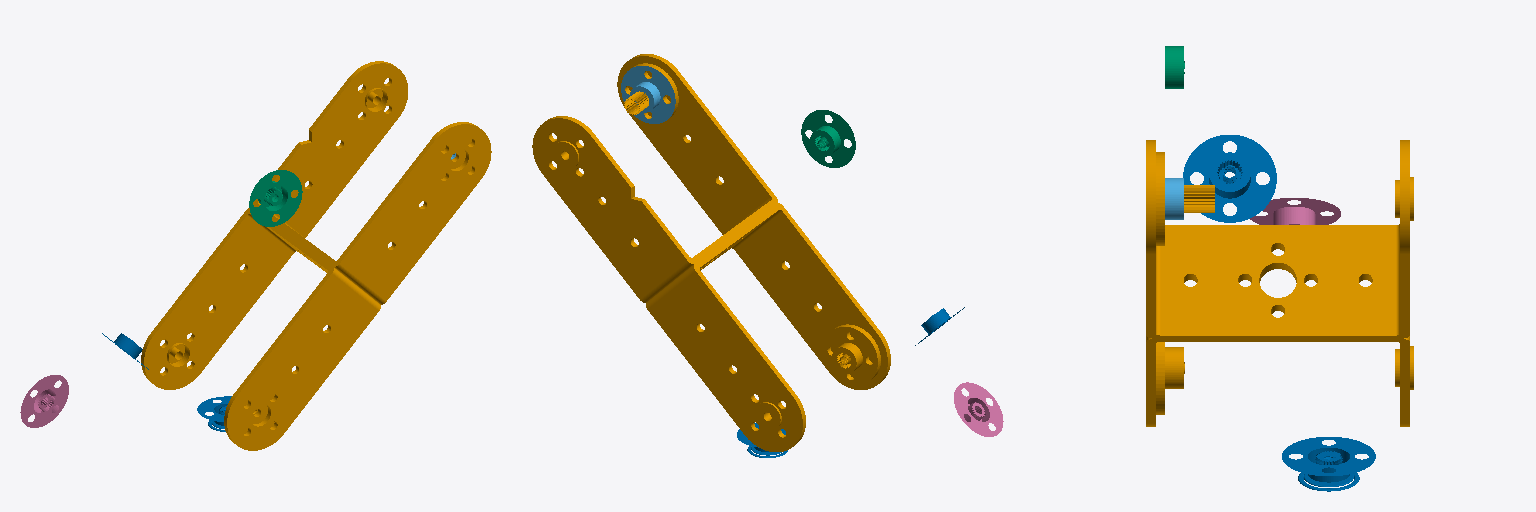
The robot description file, URDF, robot "robo_arm":
<?xml version="1.0" ?>
<!-- created with Phobos 1.0.1 "Capricious Choutengan" -->
<robot name="robo_arm">
    <link name="Arm">
        
<inertial>
            <origin xyz="0 0 0" rpy="0 0 0" />
            <mass value="0.1" />
            <inertia ixx="0.002" ixy="0.0" ixz="0.0" iyy="0.02" iyz="0.0" izz="0.002"/>
        </inertial>

        <visual name="Robo_Arm_mesh">
            <origin xyz="0 0 0" rpy="0 0.7854 0" />
            <geometry>
                <mesh filename="package://arm_desc/meshes/dae/6-DOF Robot Mechanical Arm Kits v19 (1).005.dae" scale="1.0 1.0 1.0" />
            </geometry>
        </visual>
        <collision name="Robo_Arm_mesh">
            <origin xyz="-0.01794 0.03784 -0.03618" rpy="0 1.5708 0" />
            <geometry>
                <box size="0.54395 1.2334 2.85496" />
            </geometry>
        </collision>
    </link>
    <link name="arm_1_motor">
        
<inertial>
            <origin xyz="0 0 0" rpy="0 0 0" />
            <mass value="0.1" />
            <inertia ixx="0.00044" ixy="0" ixz="0" iyy="0.00074" iyz="0" izz="0.00044" />
        </inertial>

        <visual name="Motor_3">
            <origin xyz="0 0 0" rpy="1.5708 0 0" />
            <geometry>
                <mesh filename="package://arm_desc/meshes/dae/6-DOF Robot Mechanical Arm Kits v19 (1).003.dae" scale="1.0 1.0 1.0" />
            </geometry>
        </visual>
        <collision name="Motor_3">
            <origin xyz="0 -6e-05 0.01712" rpy="3.14159 0 0" />
            <geometry>
                <cylinder radius="0.21715" length="0.16644" />
            </geometry>
        </collision>
    </link>
    <link name="arm_2_motor">
        
<inertial>
            <origin xyz="0 0 0" rpy="0 0 0" />
            <mass value="0.1" />
            <inertia ixx="0.00044" ixy="0" ixz="0" iyy="0.00074" iyz="0" izz="0.00044" />
        </inertial>

        <visual name="Motor_4">
            <origin xyz="0 0 0" rpy="1.5708 0 0" />
            <geometry>
                <mesh filename="package://arm_desc/meshes/dae/6-DOF Robot Mechanical Arm Kits v19 (1).004.dae" scale="1.0 1.0 1.0" />
            </geometry>
        </visual>
        <collision name="Motor_4">
            <origin xyz="0 -6e-05 0.01712" rpy="3.14159 0 0" />
            <geometry>
                <cylinder radius="0.21715" length="0.16653" />
            </geometry>
        </collision>
    </link>
    <link name="back">
        
<inertial>
            <origin xyz="0 0 0" rpy="0 0 0" />
            <mass value="0.1" />
            <inertia ixx="0.002" ixy="0.0" ixz="0.0" iyy="0.02" iyz="0.0" izz="0.002"/>
        </inertial>

        <visual name="Back">
            <origin xyz="0 0 0" rpy="0 0 0" />
            <geometry>
                <mesh filename="package://arm_desc/meshes/dae/6-DOF Robot Mechanical Arm Kits v19 (1).006.dae" scale="1.0 1.0 1.0" />
            </geometry>
        </visual>
        <collision name="Back">
            <origin xyz="0.03169 0.01865 -0.01747" rpy="0 0 0" />
            <geometry>
                <box size="2.69593 1.12917 0.62973" />
            </geometry>
        </collision>
    </link>
    <link name="base_plat_motor">
        
<inertial>
            <origin xyz="0 0 0" rpy="0 0 0" />
            <mass value="0.1" />
            <inertia ixx="0.00051" ixy="0" ixz="0" iyy="0.00051" iyz="0" izz="0.00082" />
        </inertial>

        <visual name="Motor_1">
            <origin xyz="0 0 0" rpy="0 0 0" />
            <geometry>
                <mesh filename="package://arm_desc/meshes/dae/6-DOF Robot Mechanical Arm Kits v19 (1).001.dae" scale="1.0 1.0 1.0" />
            </geometry>
        </visual>
        <collision name="Motor_1">
            <origin xyz="0 -7e-05 -0.0165" rpy="0 0 0" />
            <geometry>
                <cylinder radius="0.21715" length="0.13589" />
            </geometry>
        </collision>
    </link>
    <link name="gripper">
        
<inertial>
            <origin xyz="0 0 0" rpy="0 0 0" />
            <mass value="0.1" />
            <inertia ixx="0.002" ixy="0.0" ixz="0.0" iyy="0.02" iyz="0.0" izz="0.002"/>
        </inertial>

        <visual name="Gripper">
            <origin xyz="0 0 0" rpy="0 0.7854 0" />
            <geometry>
                <mesh filename="package://arm_desc/meshes/dae/6-DOF Robot Mechanical Arm Kits v19 (1).009.dae" scale="1.0 1.0 1.0" />
            </geometry>
        </visual>
        <collision name="Gripper.000">
            <origin xyz="0 0 0" rpy="0 0.7854 0" />
            <geometry>
                <mesh filename="package://arm_desc/meshes/dae/6-DOF Robot Mechanical Arm Kits v19 (1).010.dae" scale="1.0 1.0 1.0" />
            </geometry>
        </collision>
    </link>
    <link name="gripper_motor">
        
<inertial>
            <origin xyz="0 0 0" rpy="0 0 0" />
            <mass value="0.1" />
            <inertia ixx="0.00062" ixy="0" ixz="0" iyy="0.00046" iyz="-0.00016" izz="0.00062" />
        </inertial>

        <visual name="Motor_6">
            <origin xyz="0 0 0" rpy="0 0.7854 0" />
            <geometry>
                <mesh filename="package://arm_desc/meshes/dae/6-DOF Robot Mechanical Arm Kits v19 (1).007.dae" scale="1.0 1.0 1.0" />
            </geometry>
        </visual>
        <collision name="Motor_6">
            <origin xyz="-6e-05 0 0.02681" rpy="0 0 0" />
            <geometry>
                <cylinder radius="0.15355" length="0.20245" />
            </geometry>
        </collision>
    </link>
    <link name="hand">
        
<inertial>
            <origin xyz="0 0 0" rpy="0 0 0" />
            <mass value="0.1" />
            <inertia ixx="0.002" ixy="0.0" ixz="0.0" iyy="0.02" iyz="0.0" izz="0.002"/>
        </inertial>

        <visual name="Hand">
            <origin xyz="0 0 0" rpy="0 0.7854 0" />
            <geometry>
                <mesh filename="package://arm_desc/meshes/dae/6-DOF Robot Mechanical Arm Kits v19 (1).012.dae" scale="1.0 1.0 1.0" />
            </geometry>
        </visual>
        <collision name="Hand">
            <origin xyz="0.25343 0.02847 -0.00192" rpy="0 0 0" />
            <geometry>
                <box size="1.63209 1.2334 0.52921" />
            </geometry>
        </collision>
    </link>
    <link name="plat_arm_motor">
        
<inertial>
            <origin xyz="0 0 0" rpy="0 0 0" />
            <mass value="0.1" />
            <inertia ixx="0.00044" ixy="0" ixz="0" iyy="0.00044" iyz="0" izz="0.00074" />
        </inertial>

        <visual name="Motor_2">
            <origin xyz="0 0 0" rpy="1.5708 0 0" />
            <geometry>
                <mesh filename="package://arm_desc/meshes/dae/6-DOF Robot Mechanical Arm Kits v19 (1).002.dae" scale="1.0 1.0 1.0" />
            </geometry>
        </visual>
        <collision name="Motor_2">
            <origin xyz="2e-05 -6e-05 0.01771" rpy="3.14159 0 0" />
            <geometry>
                <cylinder radius="0.21715" length="0.15802" />
            </geometry>
        </collision>
    </link>
    <link name="platform">
        
<inertial>
            <origin xyz="0 0 0" rpy="0 0 0" />
            <mass value="0.1" />
            <inertia ixx="0.00805" ixy="2e-05" ixz="-0.00024" iyy="0.00832" iyz="0.00011" izz="0.01272" />
        </inertial>

        <visual name="Platform">
            <origin xyz="0 0 0" rpy="0 0 0" />
            <geometry>
                <mesh filename="package://arm_desc/meshes/dae/6-DOF Robot Mechanical Arm Kits v19 (1).011.dae" scale="1.0 1.0 1.0" />
            </geometry>
        </visual>
        <collision name="Platform">
            <origin xyz="0.01216 -0.03453 0.01668" rpy="0 0 0" />
            <geometry>
                <box size="1.25946 1.05968 0.62973" />
            </geometry>
        </collision>
    </link>
    <link name="root">
        
<inertial>
            <origin xyz="0 0 0" rpy="0 0 0" />
            <mass value="0.1" />
            <inertia ixx="0.05513" ixy="0" ixz="0" iyy="0.05572" iyz="0" izz="0.06425" />
        </inertial>

        <visual name="Base">
            <origin xyz="0 0 0" rpy="0 0 0" />
            <geometry>
                <mesh filename="package://arm_desc/meshes/dae/6-DOF Robot Mechanical Arm Kits v19 (1).008.dae" scale="1.0 1.0 1.0" />
            </geometry>
        </visual>
        <collision name="Base.000">
            <origin xyz="0 -0.01373 0.00582" rpy="0 0 0" />
            <geometry>
                <mesh filename="package://arm_desc/meshes/dae/6-DOF Robot Mechanical Arm Kits v19 (1).000.dae" scale="1.0 1.0 1.0" />
            </geometry>
        </collision>
    </link>
    <link name="world"/>
    <link name="wrist">
        
<inertial>
            <origin xyz="0 0 0" rpy="0 0 0" />
            <mass value="0.1" />
            <inertia ixx="0.00059" ixy="0" ixz="0" iyy="0.00044" iyz="-0.00015" izz="0.00059" />
        </inertial>

        <visual name="Motor_5">
            <origin xyz="0 0 0" rpy="0 -0.7854 0" />
            <geometry>
                <mesh filename="package://arm_desc/meshes/dae/6-DOF Robot Mechanical Arm Kits v19 (1).013.dae" scale="1.0 1.0 1.0" />
            </geometry>
        </visual>
        <collision name="Motor_5">
            <origin xyz="6e-05 2e-05 -0.02841" rpy="0 0 0" />
            <geometry>
                <cylinder radius="0.15355" length="0.17554" />
            </geometry>
        </collision>
    </link>
    <joint name="Arm" type="fixed">
        <origin xyz="0.79324 -0.84445 0.46365" rpy="1.5708 0 -0.7854" />
        <parent link="plat_arm_motor" />
        <child link="Arm" />
    </joint>
    <joint name="fixed" type="fixed">

        <origin xyz="0 0 0.8" rpy="0 0 0" />
        <parent link="world" />

        <child link="root" />
    </joint>
    <joint name="arm_1_motor" type="revolute">
        <origin xyz="1.12203 -0.46375 -0.03621" rpy="-1.5708 0.7854 0" />
        <parent link="Arm" />
        <child link="arm_1_motor" />
        <axis xyz="0 0 1.0" />
        <limit lower="0" upper="3.531" effort="7" velocity="0.1" />
    </joint>
    <joint name="arm_2_motor" type="revolute">
        <origin xyz="-0.90914 -0.53505 0.01504" rpy="-1.5708 0 0" />
        <parent link="back" />
        <child link="arm_2_motor" />
        <axis xyz="0 0 1.0" />
        <limit lower="0" upper="3.58042" effort="7" velocity="0.1" />
    </joint>
    <joint name="back" type="fixed">
        <origin xyz="-0.52734 0.01504 0.53505" rpy="1.5708 0 0" />
        <parent link="arm_1_motor" />
        <child link="back" />
    </joint>
    <joint name="base_plat_motor" type="revolute">
        <origin xyz="-0.02656 -0.01366 0.94791" rpy="0 0 0" />
        <parent link="root" />
        <child link="base_plat_motor" />
        <axis xyz="0 0 1.0" />
        <limit lower="0" upper="3.73351" effort="7" velocity="0.1" />
    </joint>
    <joint name="gripper" type="fixed">
        <origin xyz="0.17155 0.25631 -0.85661" rpy="0 -1.5708 0" />
        <parent link="wrist" />
        <child link="gripper" />
    </joint>
    <joint name="gripper_motor" type="revolute">
        <origin xyz="0.20504 0.0412 0.19897" rpy="0 0 0" />
        <parent link="gripper" />
        <child link="gripper_motor" />
        <axis xyz="0 0 1.0" />
        <limit lower="0" upper="1.09706" effort="0" velocity="0.1" />
    </joint>
    <joint name="hand" type="fixed">
        <origin xyz="-0.60071 0.59794 0.47312" rpy="1.5708 0 -0.7854" />
        <parent link="arm_2_motor" />
        <child link="hand" />
    </joint>
    <joint name="plat_arm_motor" type="revolute">
        <origin xyz="-0.21044 -0.53602 0.04919" rpy="-1.5708 0 0" />
        <parent link="platform" />
        <child link="plat_arm_motor" />
        <axis xyz="0 0 1.0" />
        <limit lower="-2.35619" upper="0.785398" effort="0" velocity="0.1" />
    </joint>
    <joint name="platform" type="fixed">
        <origin xyz="-0.01216 -0.19137 0.3414" rpy="0 0 0" />
        <parent link="base_plat_motor" />
        <child link="platform" />
    </joint>
    <joint name="wrist" type="revolute">
        <origin xyz="-0.62445 -0.20282 -0.00186" rpy="0 1.5708 0" />
        <parent link="hand" />
        <child link="wrist" />
        <axis xyz="0 0 1.0" />
        <limit lower="0" upper="3.73351" effort="0" velocity="0.1" />
    </joint>
    
<transmission name="trans_arm_1_motor">
        <type>transmission_interface/SimpleTransmission</type>
        <joint name="arm_1_motor">
            <hardwareInterface>hardware_interface/PositionJointInterface</hardwareInterface>
        </joint>
        <actuator name="arm_1_motor_motor">
            <hardwareInterface>hardware_interface/PositionJointInterface</hardwareInterface>
            <mechanicalReduction>1</mechanicalReduction>
        </actuator>
    </transmission>
    <transmission name="trans_arm_2_motor">
        <type>transmission_interface/SimpleTransmission</type>
        <joint name="arm_2_motor">
            <hardwareInterface>hardware_interface/PositionJointInterface</hardwareInterface>
        </joint>
        <actuator name="arm_2_motor_motor">
            <hardwareInterface>hardware_interface/PositionJointInterface</hardwareInterface>
            <mechanicalReduction>1</mechanicalReduction>
        </actuator>
    </transmission>
    <transmission name="trans_base_plat_motor">
        <type>transmission_interface/SimpleTransmission</type>
        <joint name="base_plat_motor">
            <hardwareInterface>hardware_interface/PositionJointInterface</hardwareInterface>
        </joint>
        <actuator name="base_plat_motor_motor">
            <hardwareInterface>hardware_interface/PositionJointInterface</hardwareInterface>
            <mechanicalReduction>1</mechanicalReduction>
        </actuator>
    </transmission>
    <transmission name="trans_gripper_motor">
        <type>transmission_interface/SimpleTransmission</type>
        <joint name="gripper_motor">
            <hardwareInterface>hardware_interface/EffortJointInterface</hardwareInterface>
        </joint>
        <actuator name="gripper_motor_motor">
            <hardwareInterface>hardware_interface/EffortJointInterface</hardwareInterface>
            <mechanicalReduction>1</mechanicalReduction>
        </actuator>
    </transmission>
    <transmission name="trans_plat_arm_motor">
        <type>transmission_interface/SimpleTransmission</type>
        <joint name="plat_arm_motor">
            <hardwareInterface>hardware_interface/PositionJointInterface</hardwareInterface>
        </joint>
        <actuator name="plat_arm_motor_motor">
            <hardwareInterface>hardware_interface/PositionJointInterface</hardwareInterface>
            <mechanicalReduction>1</mechanicalReduction>
        </actuator>
    </transmission>
    <transmission name="trans_wrist">
        <type>transmission_interface/SimpleTransmission</type>
        <joint name="wrist">
            <hardwareInterface>hardware_interface/PositionJointInterface</hardwareInterface>
        </joint>
        <actuator name="wrist_motor">
            <hardwareInterface>hardware_interface/PositionJointInterface</hardwareInterface>
            <mechanicalReduction>1</mechanicalReduction>
        </actuator>
    </transmission>
    <gazebo>
        <plugin name="gazebo_ros_control" filename="libgazebo_ros_control.so">
            <robotNamespace>/</robotNamespace>
        </plugin>
    </gazebo>
    <gazebo reference="Arm">
        <turnGravityOff>true</turnGravityOff>
    </gazebo>
    <gazebo reference="root">
        <turnGravityOff>true</turnGravityOff>
    </gazebo>
    <gazebo reference="wrist">
        <turnGravityOff>true</turnGravityOff>
    </gazebo>
    <gazebo reference="platform">
        <turnGravityOff>true</turnGravityOff>
    </gazebo>
    <gazebo reference="arm_1_motor">
        <turnGravityOff>true</turnGravityOff>
    </gazebo>
    <gazebo reference="arm_2_motor">
        <turnGravityOff>true</turnGravityOff>
    </gazebo>
    <gazebo reference="back">
        <turnGravityOff>true</turnGravityOff>
    </gazebo>
    <gazebo reference="plat_arm_motor">
        <turnGravityOff>true</turnGravityOff>
    </gazebo>
    <gazebo reference="base_plat_motor">
        <turnGravityOff>true</turnGravityOff>
    </gazebo>
    <gazebo reference="gripper">
        <turnGravityOff>true</turnGravityOff>
    </gazebo>
    <gazebo reference="gripper_motor">
        <turnGravityOff>true</turnGravityOff>
    </gazebo>
</robot>

--- Render facts (derived) ---
The picture shows the robot from 3 angles, left to right: view 1: azimuth 30°, elevation 25°; view 2: azimuth 150°, elevation 25°; view 3: azimuth 270°, elevation 25°; orthographic projection.
Model robo_arm with 13 links and 12 joints (6 revolute, 6 fixed), rooted at world, posed every joint at zero.
Links seen in each view (by area): view 1: Arm, arm_2_motor, gripper_motor, base_plat_motor; view 2: Arm, plat_arm_motor, arm_2_motor, arm_1_motor, gripper_motor; view 3: Arm, wrist, base_plat_motor, gripper_motor, arm_2_motor, plat_arm_motor, arm_1_motor.
Link boxes in pixels (bbox=[...]): Arm: bbox=[141, 61, 491, 450]; arm_2_motor: bbox=[249, 170, 302, 226]; gripper_motor: bbox=[20, 375, 68, 427]; base_plat_motor: bbox=[197, 396, 231, 431]; Arm: bbox=[532, 54, 890, 451]; plat_arm_motor: bbox=[823, 327, 877, 384]; arm_2_motor: bbox=[801, 110, 855, 167]; arm_1_motor: bbox=[621, 66, 675, 123]; gripper_motor: bbox=[954, 382, 1003, 436]; Arm: bbox=[1146, 140, 1413, 426]; wrist: bbox=[1183, 135, 1276, 222]; base_plat_motor: bbox=[1282, 437, 1375, 491]; gripper_motor: bbox=[1250, 198, 1340, 224]; arm_2_motor: bbox=[1165, 46, 1184, 88]; plat_arm_motor: bbox=[1165, 347, 1184, 388]; arm_1_motor: bbox=[1165, 178, 1183, 219].
Size in the robot's own frame: 3.4 by 1.23 by 2.35 metres.
7 mesh visuals loaded from 12 distinct referenced files (7 Collada DAE); not drawn: 5 (reference not matched to a file when rendering).